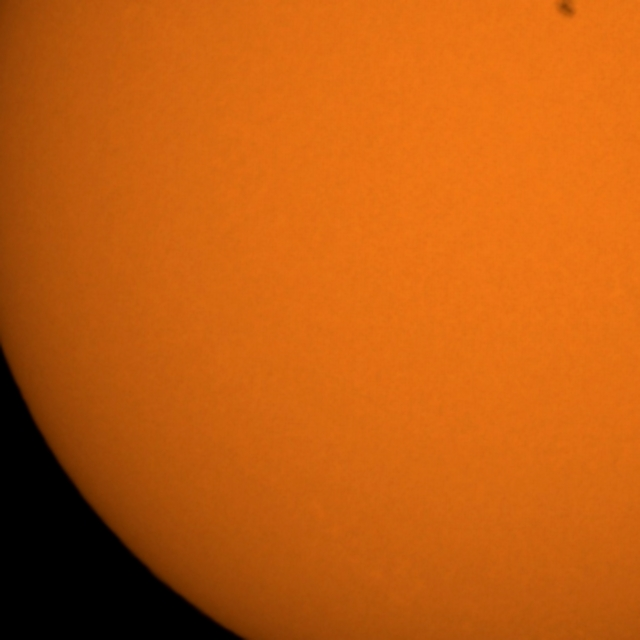sunspot: (553, 0, 580, 22)
